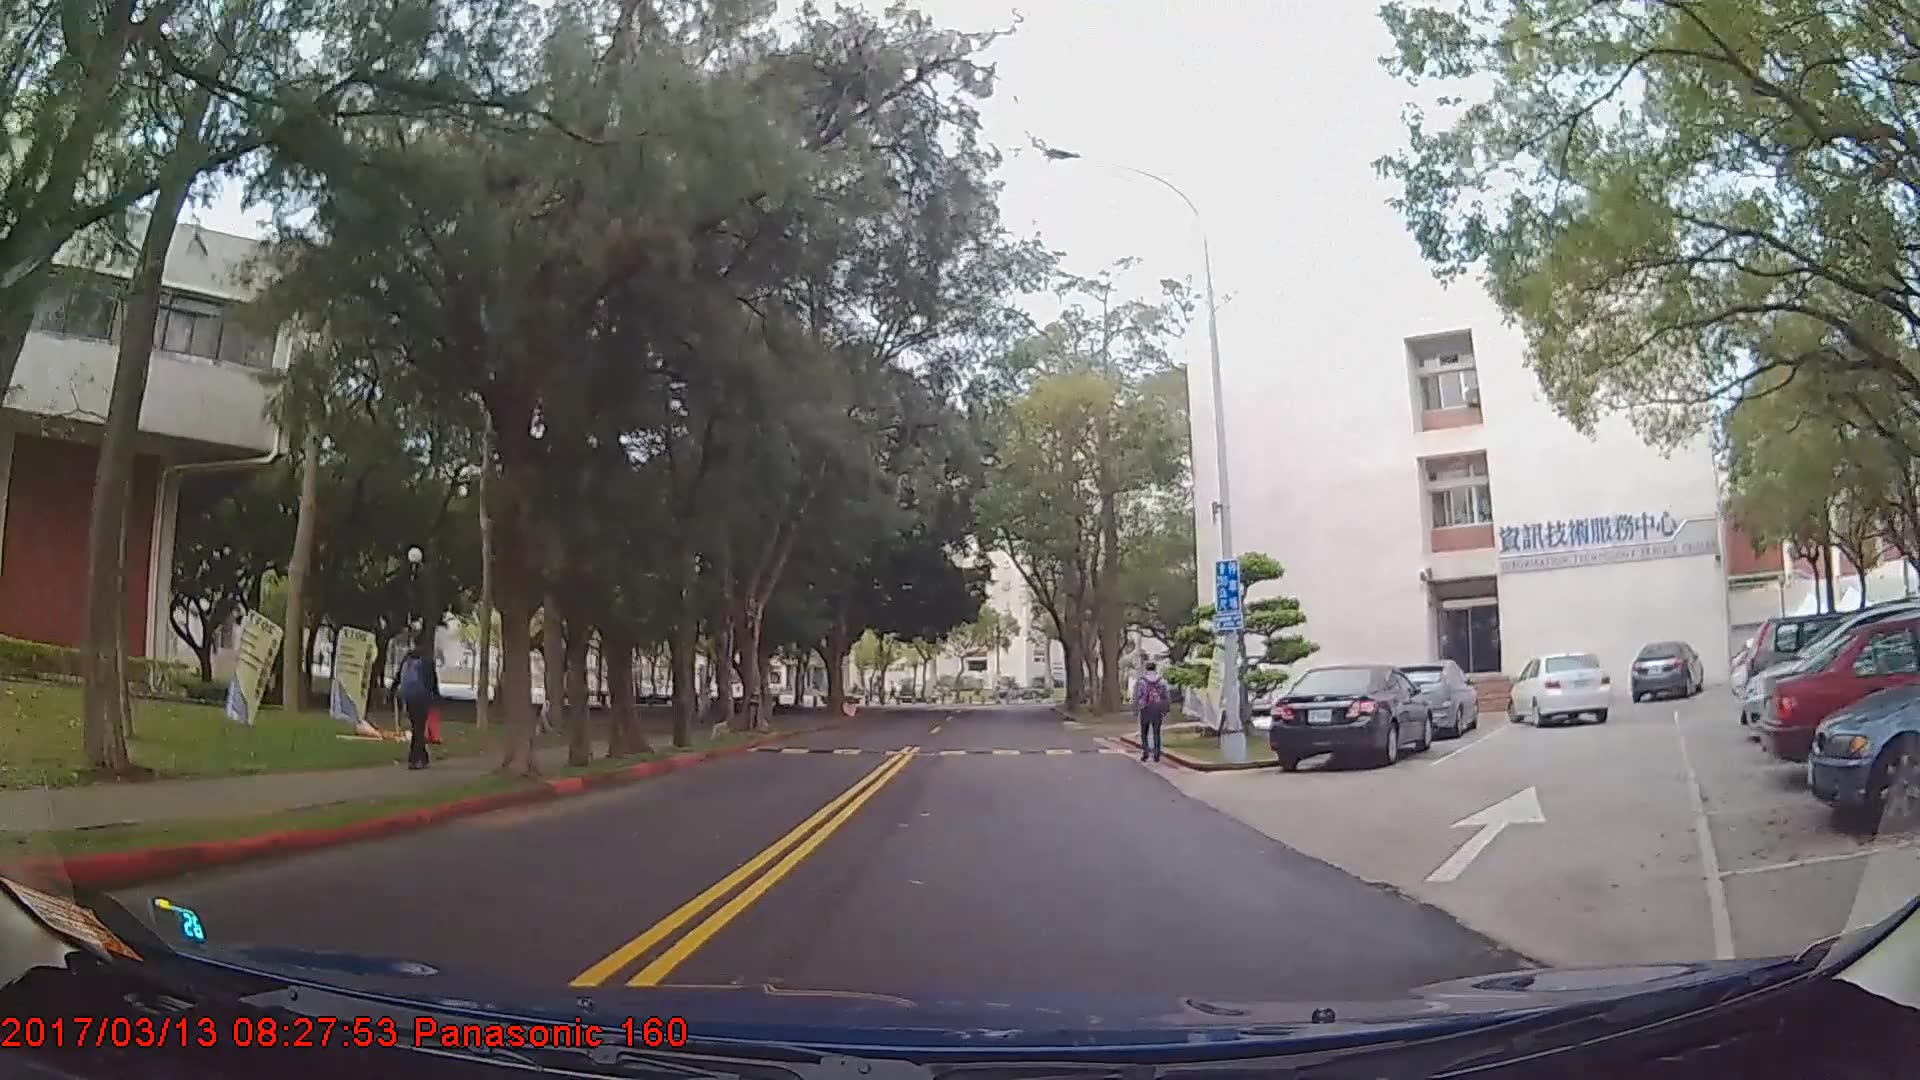pedestrian: (392, 640, 439, 780), (1137, 661, 1175, 769)
vehicle: (1759, 614, 1920, 786), (1806, 675, 1919, 839), (1267, 663, 1431, 770), (1383, 656, 1482, 737), (1508, 652, 1611, 728), (1629, 637, 1704, 700)
